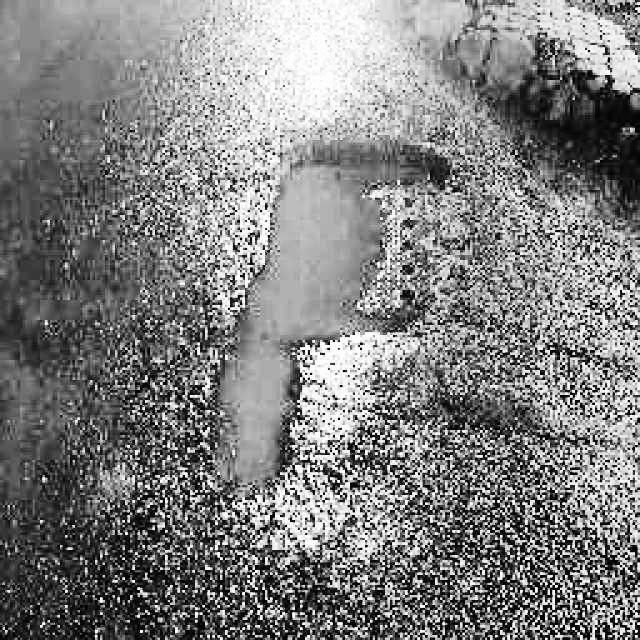Pothole: (185, 113, 460, 505)
